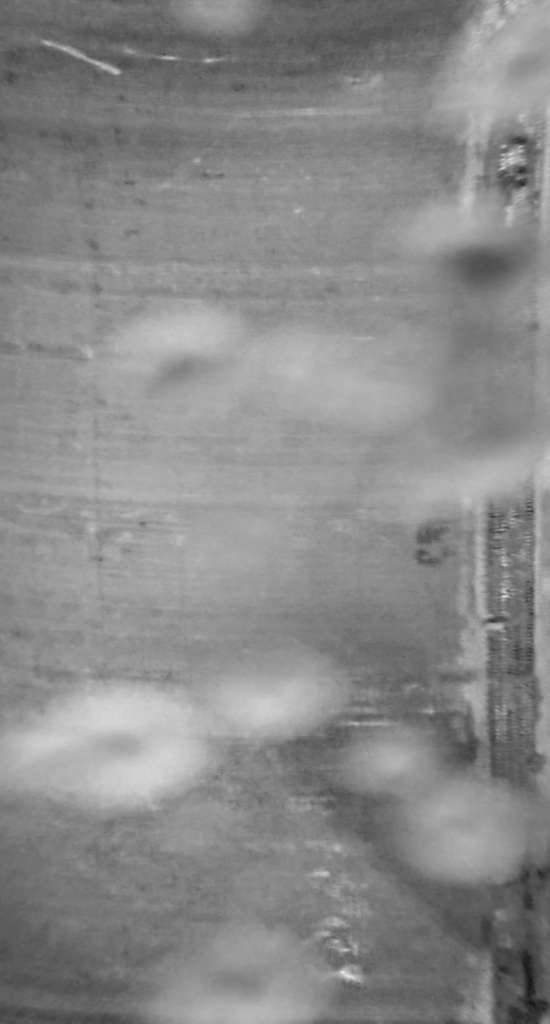splice: (473, 1, 550, 1024)
